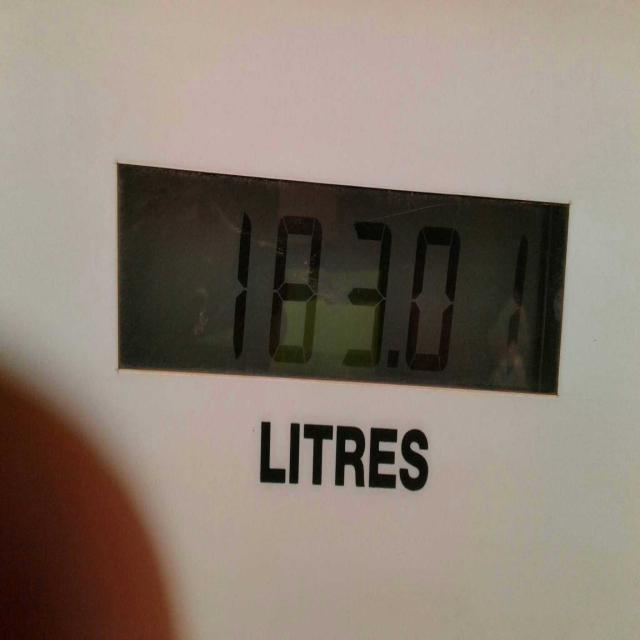.: (388, 349, 402, 371)
0: (409, 224, 457, 374)
1: (506, 234, 525, 373), (237, 208, 249, 358)
3: (346, 223, 389, 373)
8: (270, 209, 320, 371)
